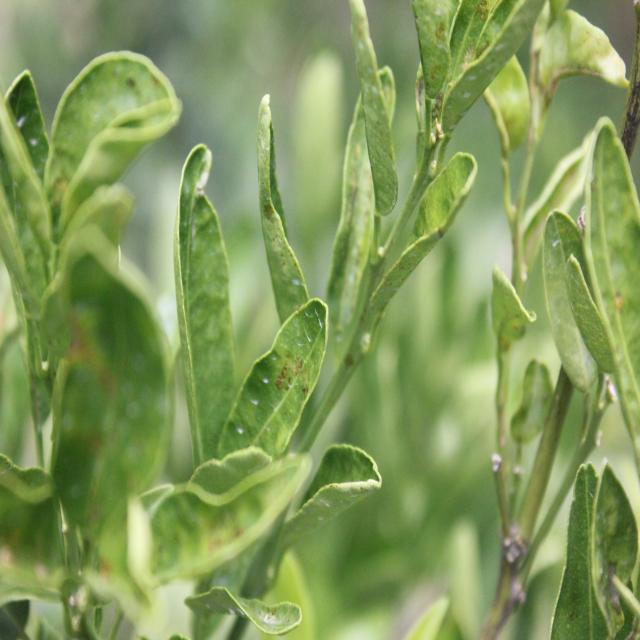canker: (71, 312, 135, 524), (172, 495, 270, 574), (340, 117, 373, 300), (263, 336, 314, 427), (418, 0, 446, 96)
